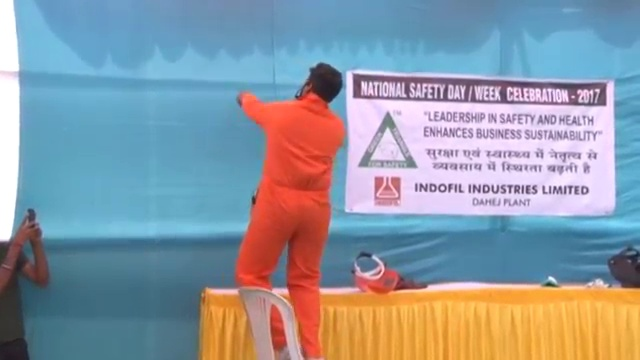helmet_off: (297, 63, 343, 109)
person: (230, 64, 358, 360), (1, 214, 46, 360)
